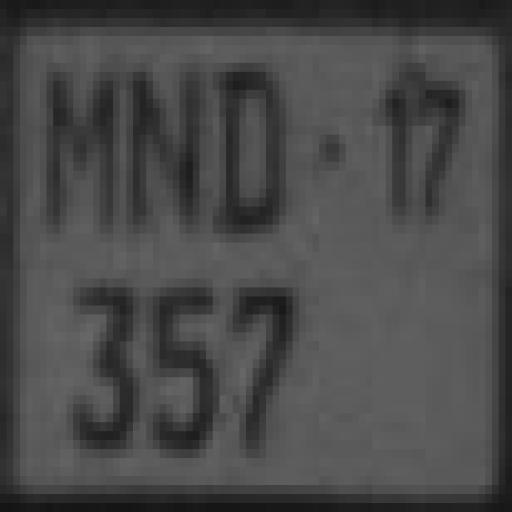3: (67, 282, 141, 467)
5: (145, 280, 221, 470)
7: (224, 280, 299, 456)
D: (214, 59, 287, 231)
M: (46, 66, 118, 236)
N: (124, 66, 202, 240)
